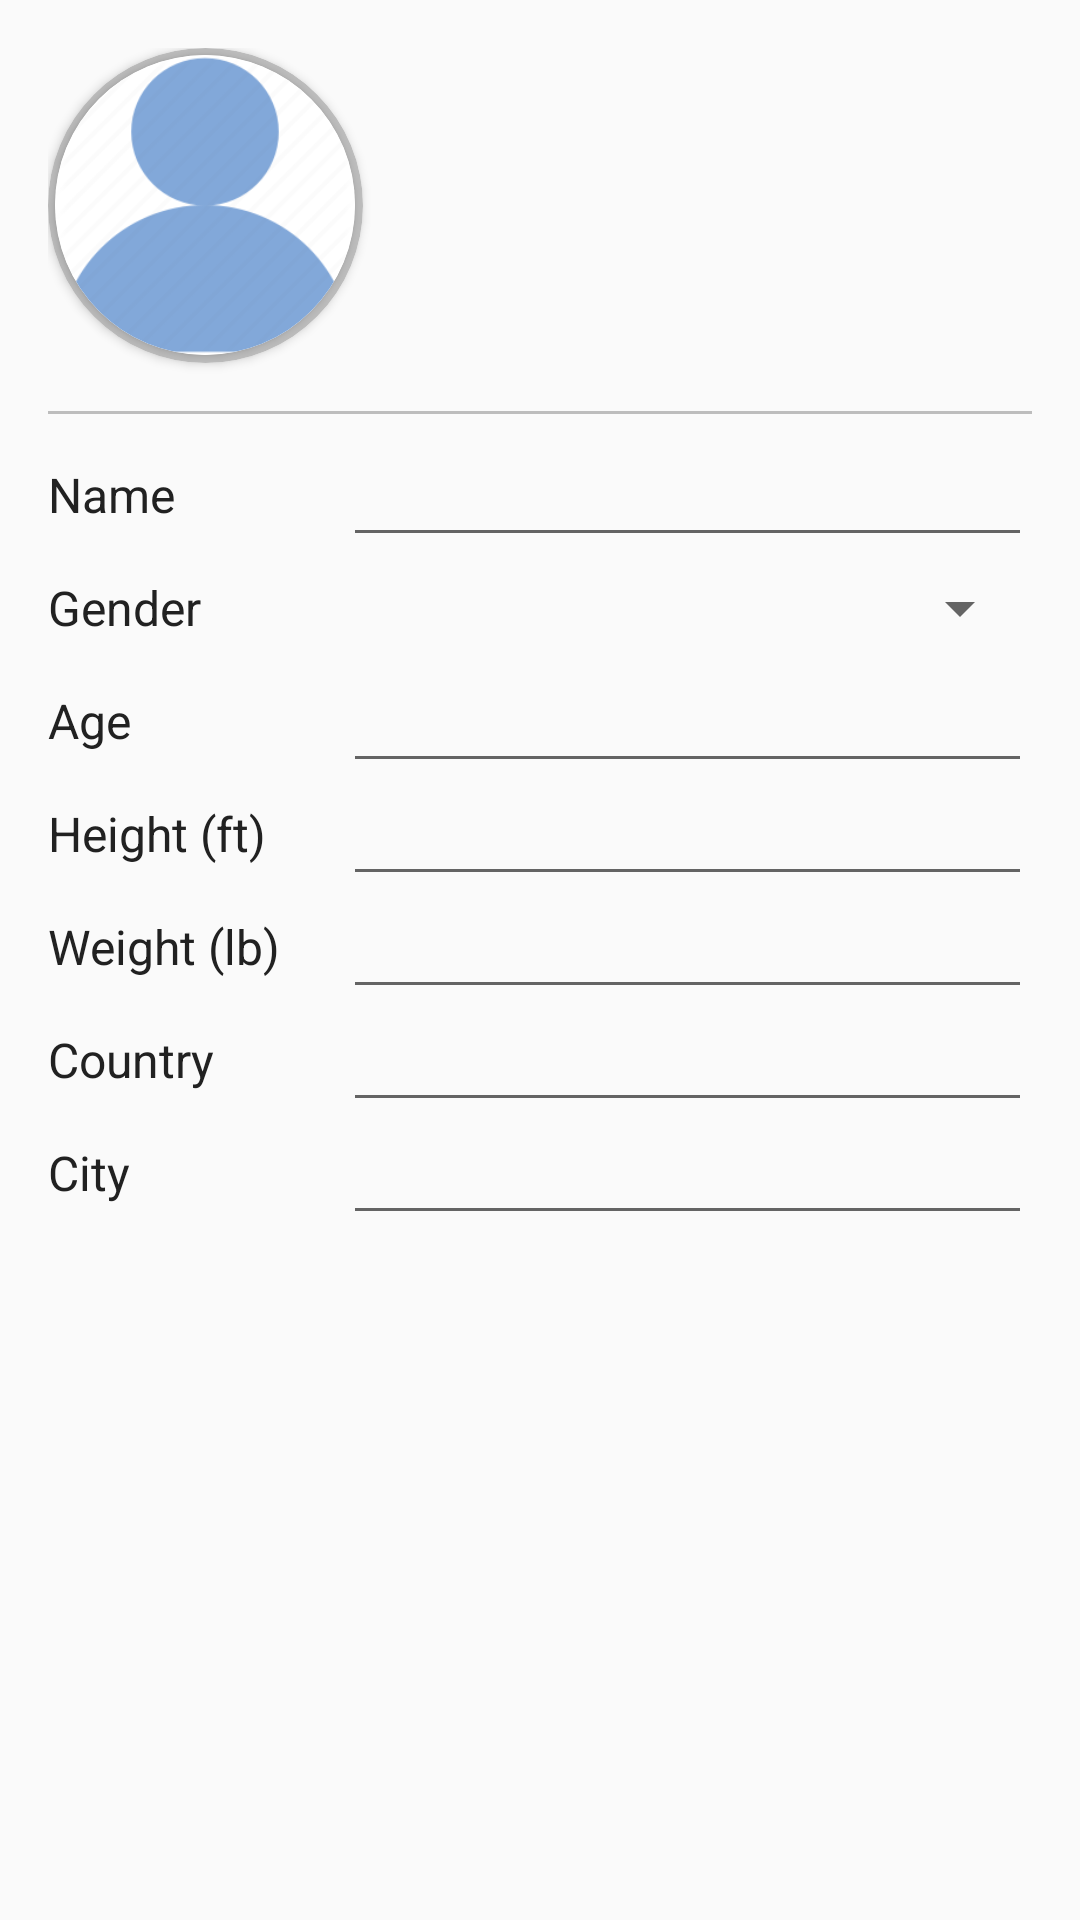

Icons on this 1080px x 1920px Android screen, each with the point to tap as point (x, y):
profile: point (205, 205)
